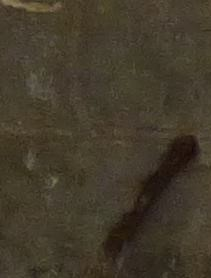Exposed reinforcement: (103, 133, 200, 258)
